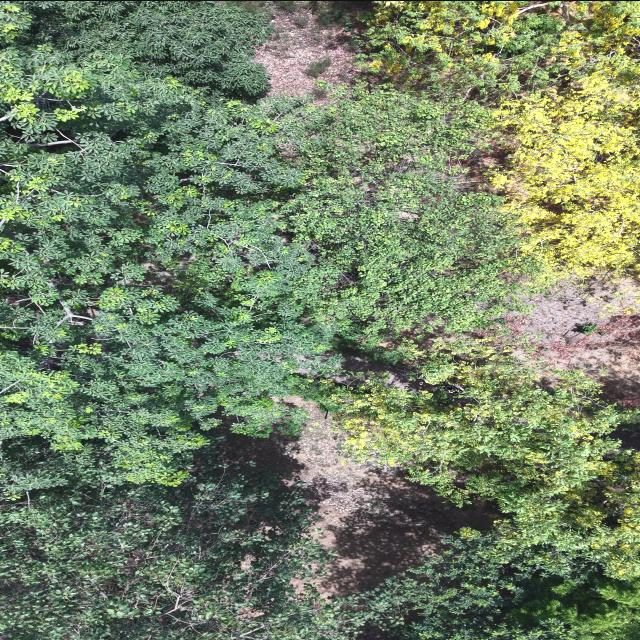DRY_AREA: (234, 397, 501, 596), (251, 397, 499, 596), (251, 397, 500, 595), (281, 397, 500, 595), (286, 398, 500, 595), (400, 277, 639, 406), (504, 278, 639, 406), (510, 277, 639, 405), (255, 1, 364, 103)
VEGETATION_TREE: (0, 1, 639, 639), (0, 2, 337, 484), (0, 451, 639, 639), (363, 1, 639, 278), (322, 344, 639, 577), (0, 450, 368, 639), (282, 84, 524, 342), (492, 1, 639, 277), (493, 61, 639, 276), (386, 528, 639, 639), (362, 1, 614, 102), (527, 575, 639, 639)
